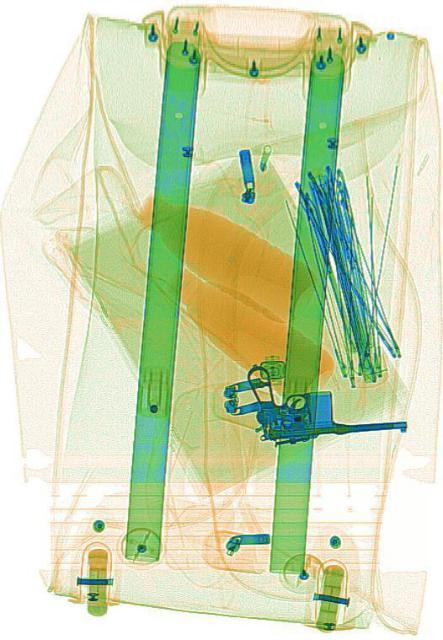Gun: (244, 350, 407, 448)
